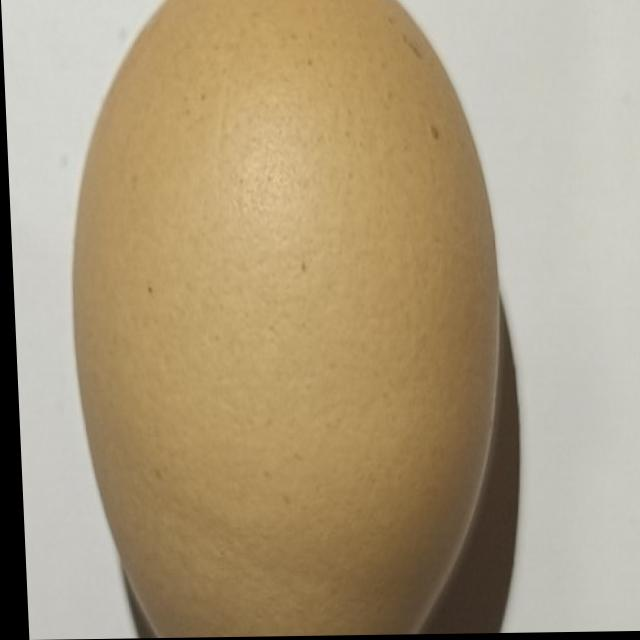fresh: (44, 0, 520, 639)
